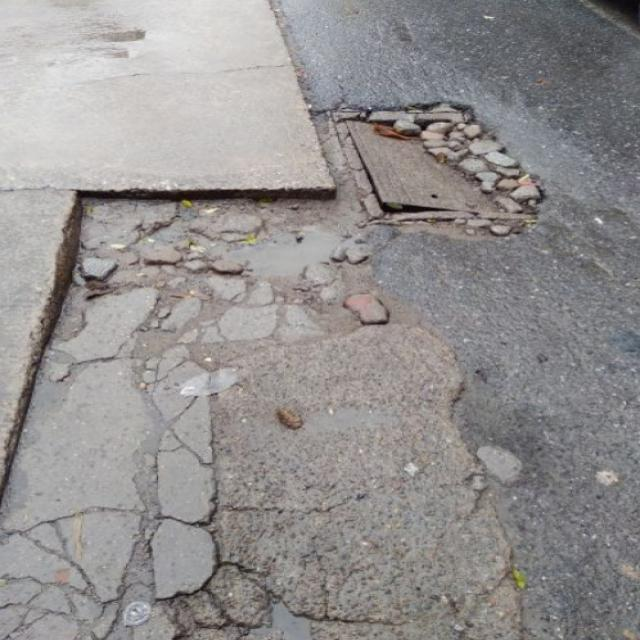Faulty: (318, 90, 544, 242)
